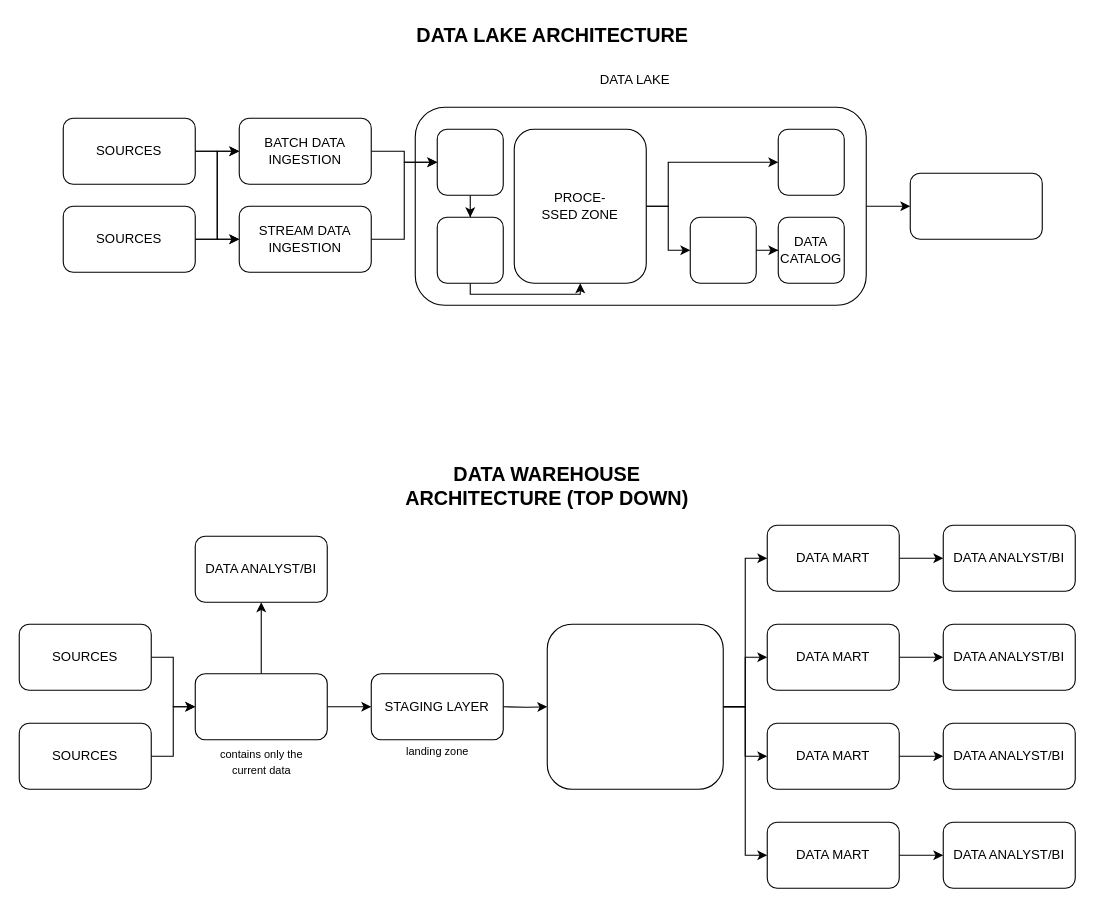
This 1095x908 diagram has some shape labels left out. The shapes that lost their labels are listed below. From the top down, each one's centre as x and y in pixels, then its label:
[469,161]: RAW ZONE
[810,161]: DATA SWAMP
[975,205]: DATA SCIENTIST
[469,249]: DATA TRANSF- ORMATI- ON
[722,249]: CREATE SCHEMA
[260,706]: ODS (OPTIONAL)
[634,706]: DATA WAREHOUSE
